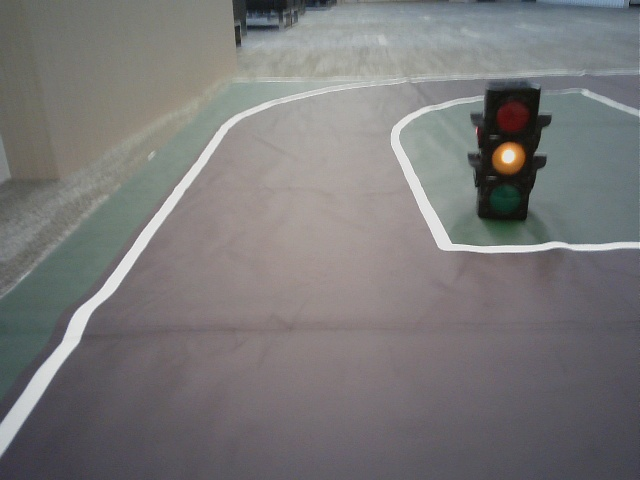yellow: (486, 93, 530, 215)
